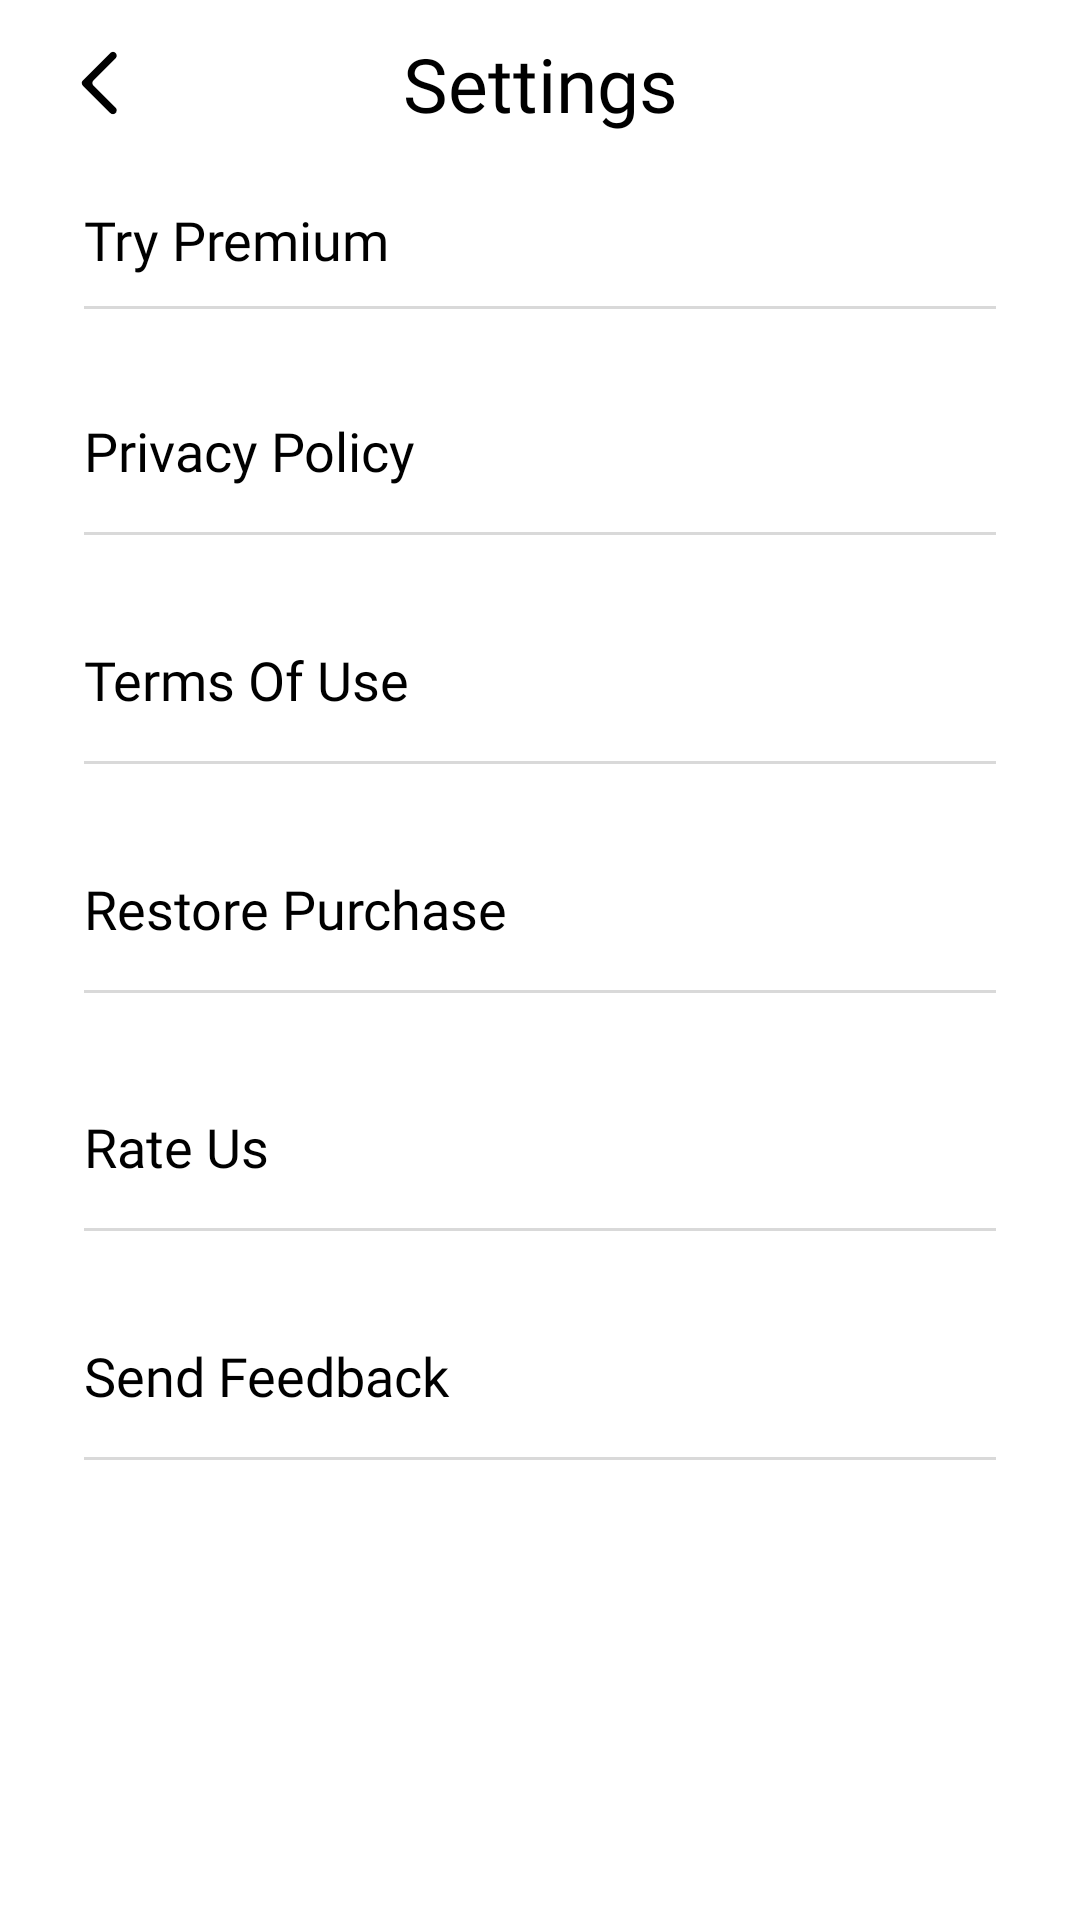

Screen size 1080*1920. Icon name, then its box in pixels as (x1, y1, x2, y2):
back: (81, 52, 117, 114)
